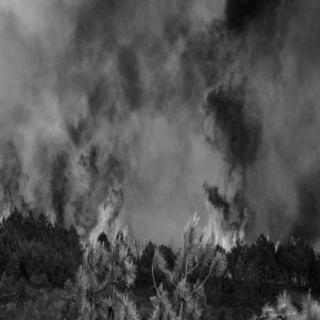Fire: (197, 176, 255, 248)
Smoke: (207, 5, 269, 151)
